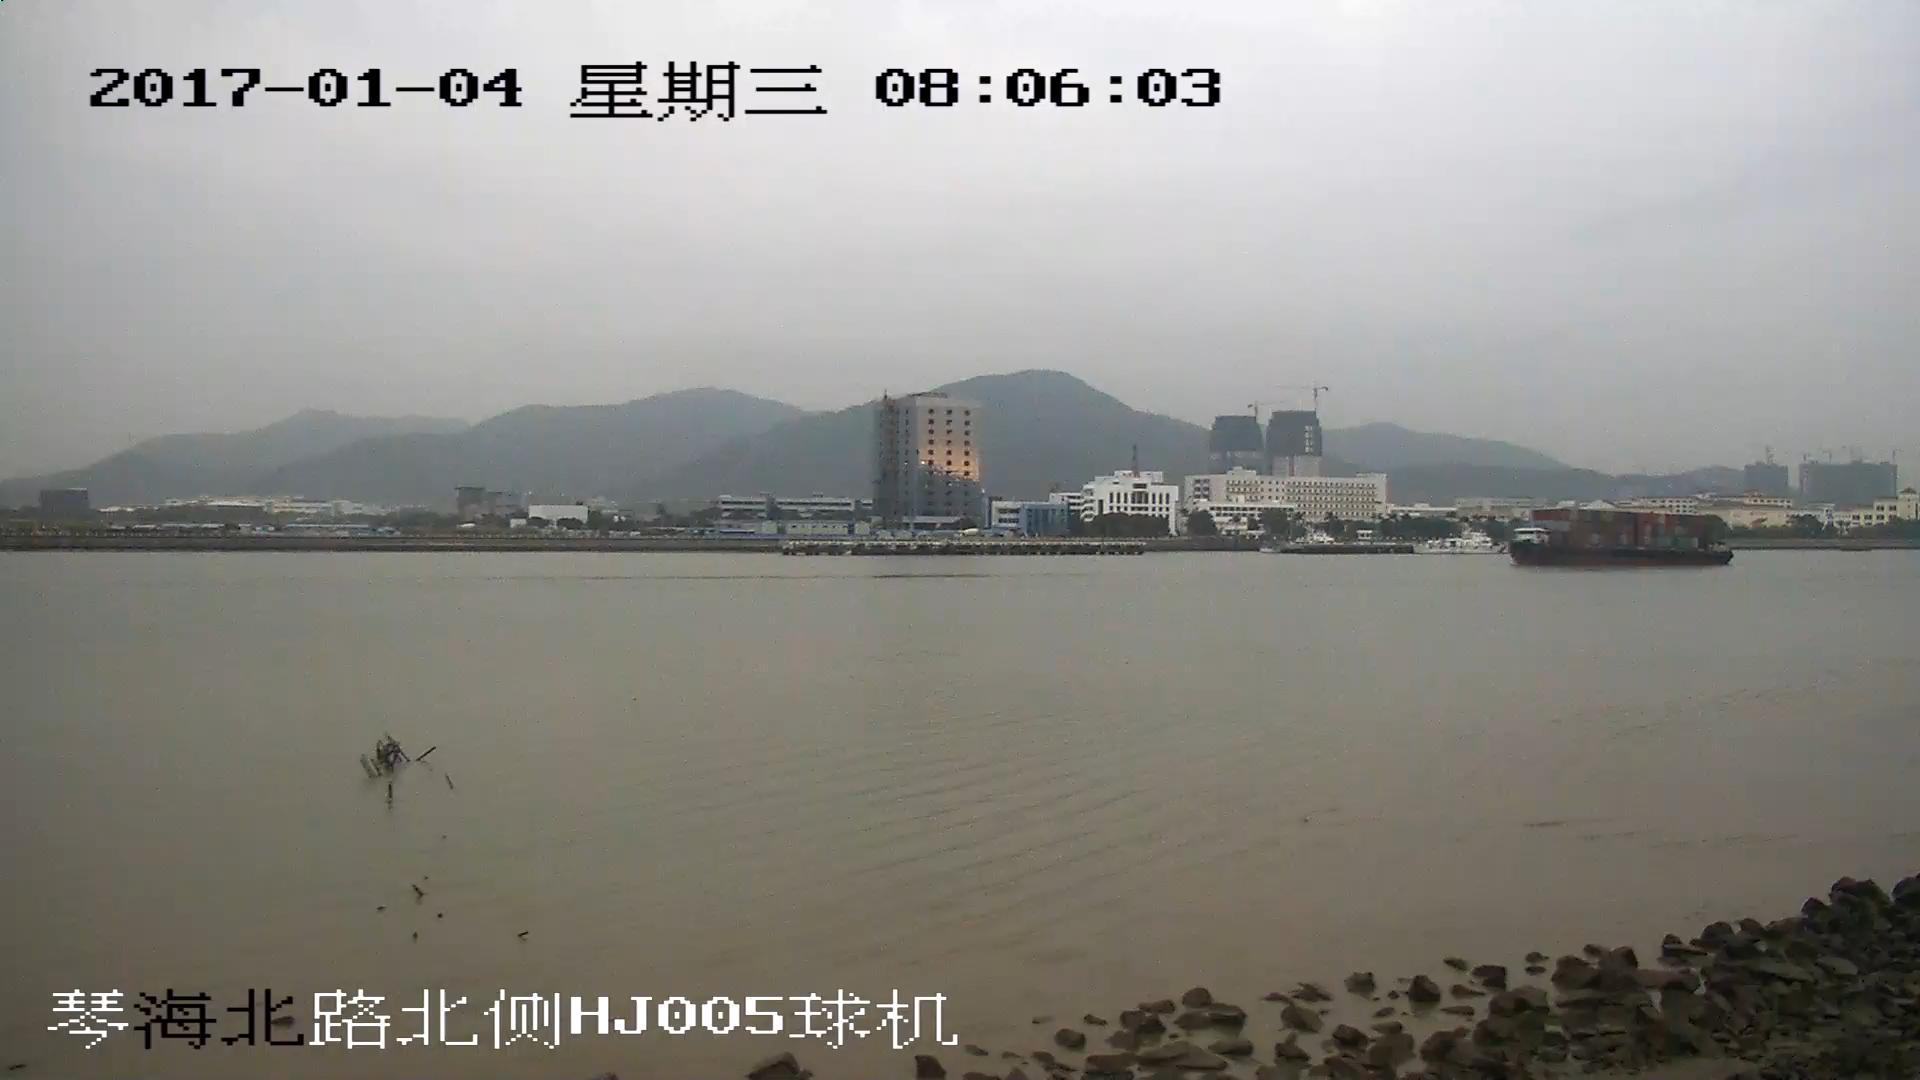Ship: (1516, 509, 1735, 564)
